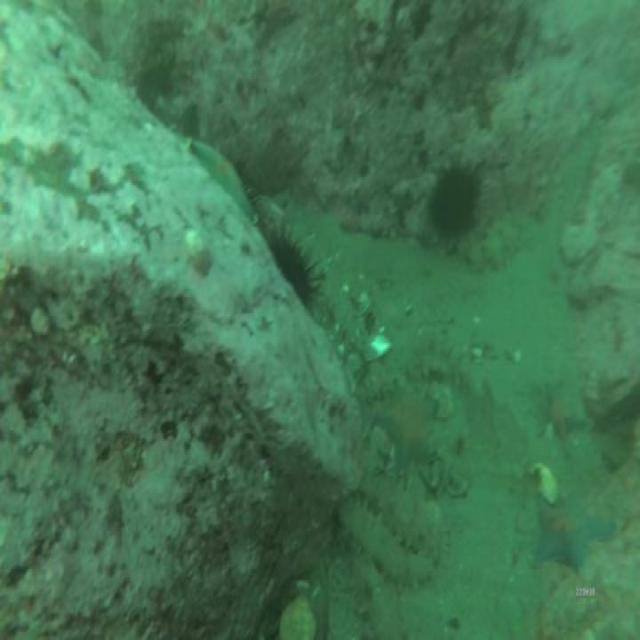echinus: (432, 166, 474, 235), (270, 237, 310, 307)
holothurian: (335, 492, 430, 586), (361, 463, 439, 559), (343, 566, 402, 635), (470, 207, 531, 270), (406, 341, 469, 387)
starfish: (534, 488, 615, 570), (190, 138, 252, 222), (374, 378, 435, 460), (539, 379, 585, 444)
